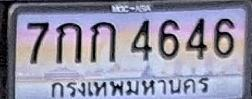4: (130, 19, 152, 60), (186, 17, 206, 59)
6: (158, 19, 179, 59), (214, 18, 234, 58)
7: (26, 22, 48, 64)
A01: (90, 21, 116, 62), (56, 22, 81, 63)
BKK: (49, 73, 213, 98)
